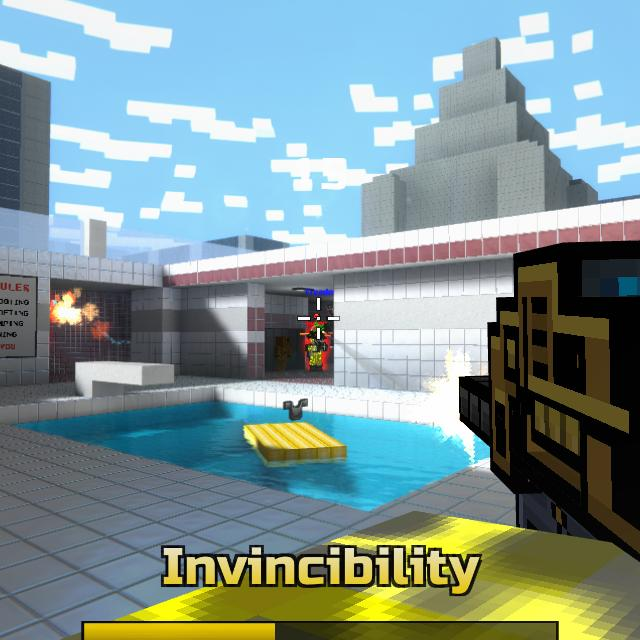Enemy: (305, 331, 328, 371)
